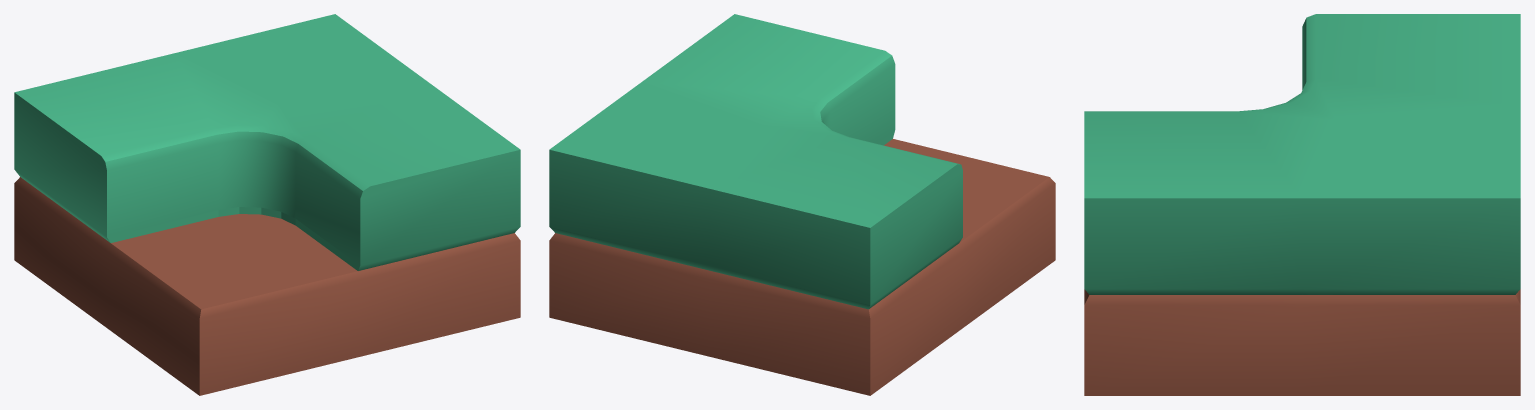
File: kaykit-square-forest-waterinnercorner-empty.glb
The picture shows the model from 3 angles, left to right: view 1: azimuth 30°, elevation 25°; view 2: azimuth 150°, elevation 25°; view 3: azimuth 270°, elevation 25°; orthographic projection. The views are drawn at different scales.
Visible parts, largest first — view 1: square_forest_waterInnerCorner_empty; view 2: square_forest_waterInnerCorner_empty; view 3: square_forest_waterInnerCorner_empty.
Boxes of the visible parts, <box> form: square_forest_waterInnerCorner_empty: <box>14,14,520,395</box>; square_forest_waterInnerCorner_empty: <box>549,14,1055,395</box>; square_forest_waterInnerCorner_empty: <box>1084,14,1520,395</box>.
Bounding box in the file's own units: 2 × 1 × 2.
